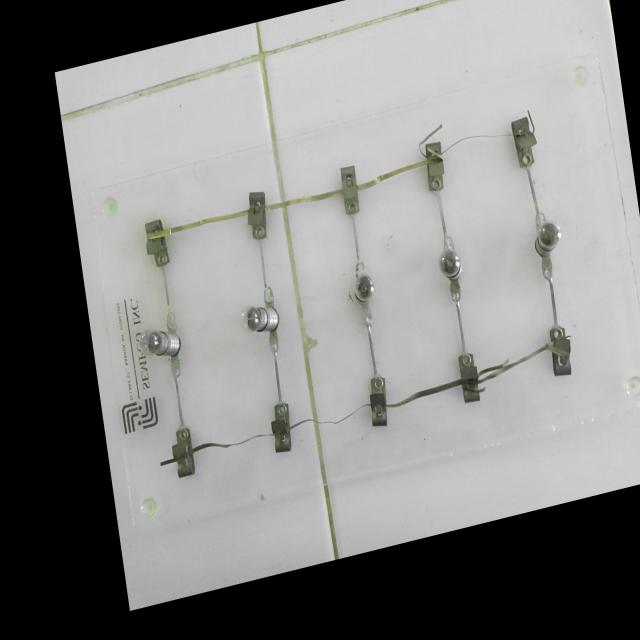Set of Resistors and Bulbs: (109, 88, 599, 503)
